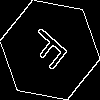F: (25, 25, 76, 78)
